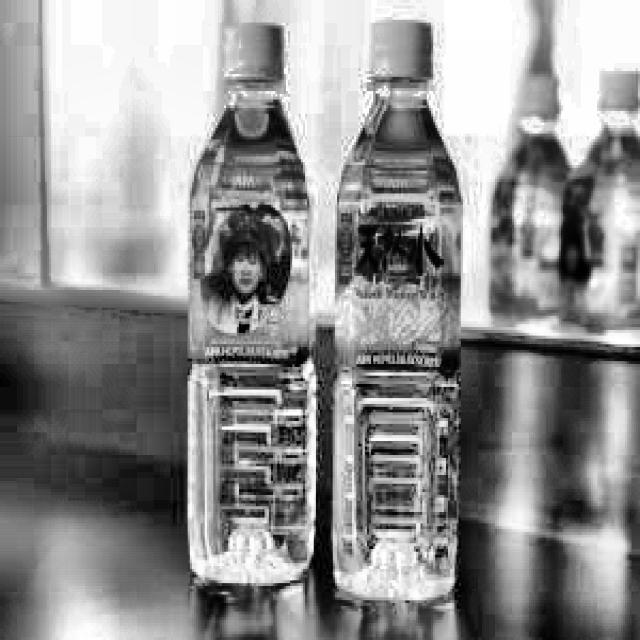waterbottle: (316, 12, 476, 615), (176, 9, 324, 594)
